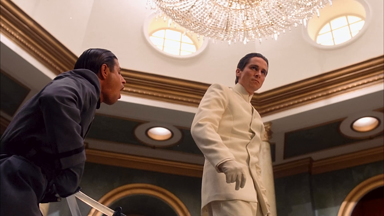bladed_weapon: (72, 187, 128, 215), (63, 197, 84, 215)
